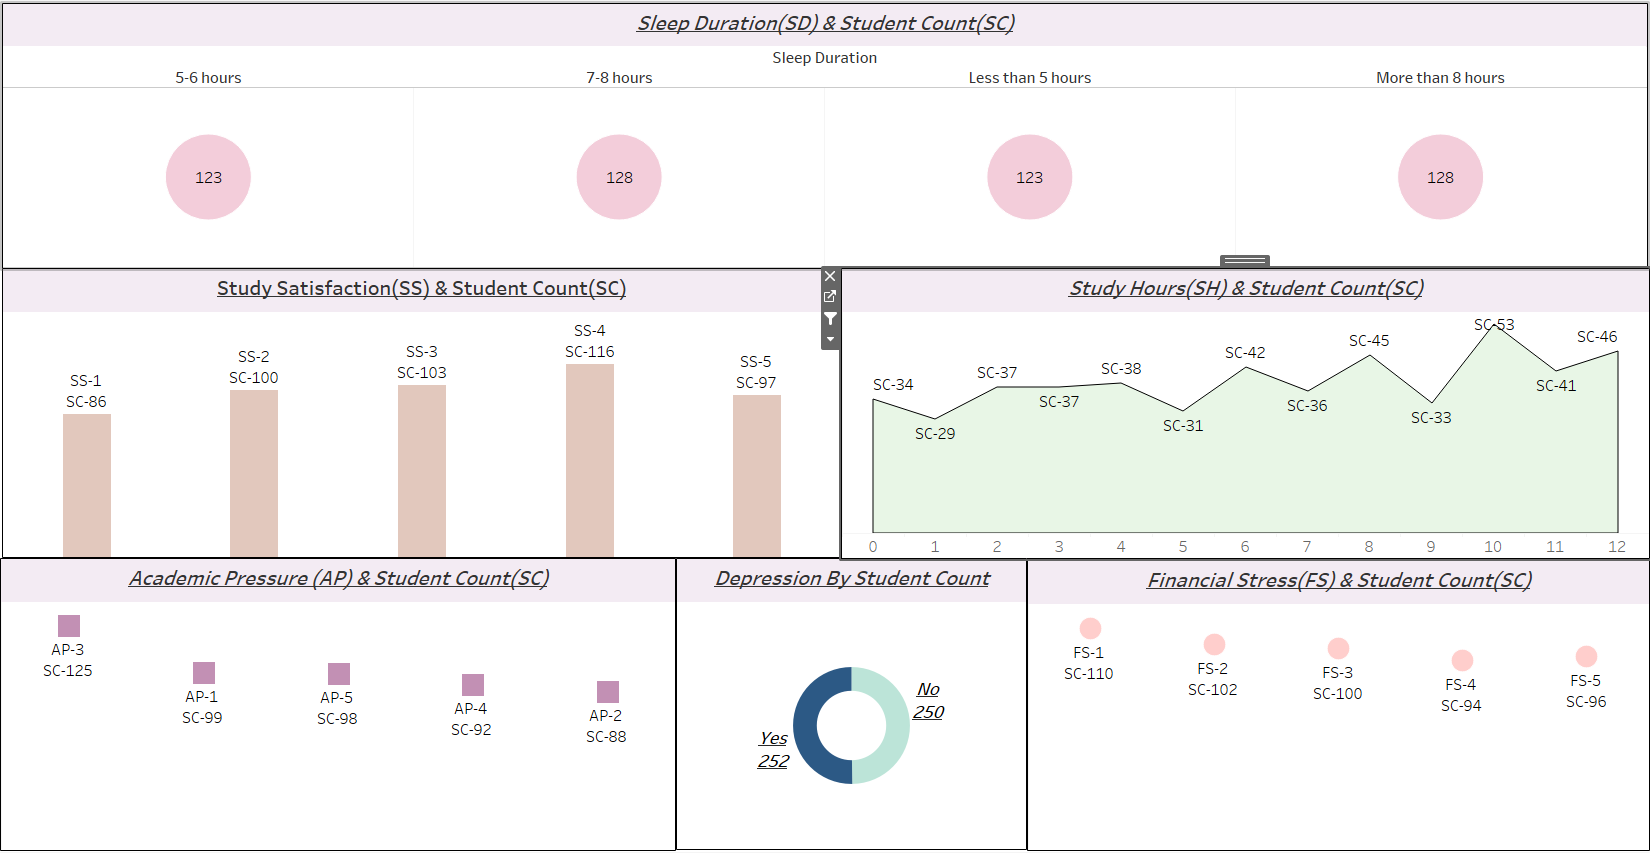

The dashboard page shown, as its layout file describes it:
{"tool":"tableau","page":{"name":"Student Count Analysis","canvas":[1000,1000],"units":"permille","ordinal":0},"visuals":[{"type":"worksheet","title":"SD & SC","mark":"Pie","cols":["Sleep_Duration"],"box":[2.4,2.4,993.4,312.6]},{"type":"worksheet","title":"SS & SC","mark":"Automatic","rows":["Index_Column"],"cols":["Study_Satisfaction"],"box":[2.4,311.4,506.9,343.1]},{"type":"worksheet","title":"SH & SC","mark":"Area","rows":["Index_Column"],"cols":["Study_Hours"],"box":[508.8,313.8,488.2,341.9]},{"type":"worksheet","title":"AP & SC","mark":"Square","rows":["Index_Column"],"cols":["Academic_Pressure"],"box":[1.2,654.5,408,344.3]},{"type":"worksheet","title":"Dep & SC","mark":"Pie","rows":["Calculation_384776298344087553","Calculation_384776298344112131"],"box":[409.2,654.5,211.9,343.1]},{"type":"worksheet","title":"FS & SC","mark":"Circle","rows":["Index_Column"],"cols":["Financial_Stress"],"box":[621,656.9,376,341.9]}]}

Visuals, with their boxes on the dashboard's canvas, which has no fixed pixel size, in thousandths of its width and height (x1, y1, x2, y2). These are canvas units, not pixel positions in the 1650x853 screenshot, which may show the page scaled, cropped or inside an application window:
"SD & SC" worksheet (Pie marks): rect(2, 2, 996, 315)
"SS & SC" worksheet: rect(2, 311, 509, 654)
"SH & SC" worksheet (Area marks): rect(509, 314, 997, 656)
"AP & SC" worksheet (Square marks): rect(1, 654, 409, 999)
"Dep & SC" worksheet (Pie marks): rect(409, 654, 621, 998)
"FS & SC" worksheet (Circle marks): rect(621, 657, 997, 999)
